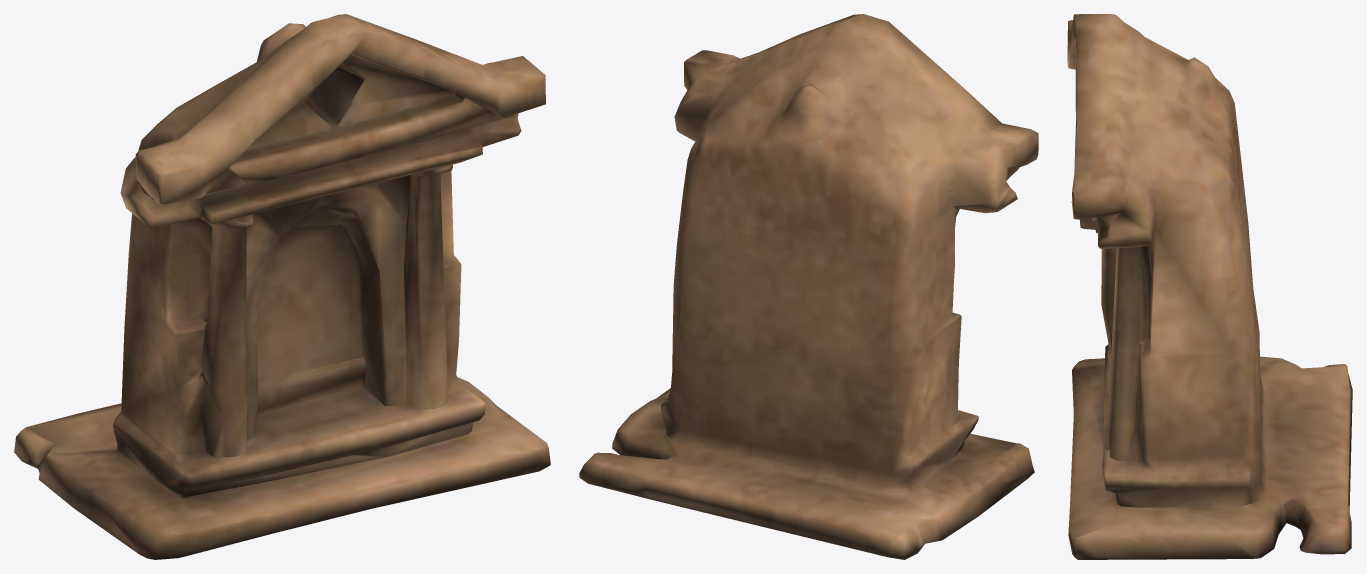
Rendered from rustic-sandstone-shrine-v001.glb.
3 views of the same model, side by side, from view 1: azimuth 30°, elevation 25°; view 2: azimuth 150°, elevation 25°; view 3: azimuth 270°, elevation 25° (orthographic). The views are drawn at different scales.
Visible parts, largest first — view 1: rustic-sandstone-shrine; view 2: rustic-sandstone-shrine; view 3: rustic-sandstone-shrine.
Part boxes in pixels (x1=…): rustic-sandstone-shrine: x1=14, y1=14, x2=550, y2=559; rustic-sandstone-shrine: x1=579, y1=14, x2=1038, y2=559; rustic-sandstone-shrine: x1=1067, y1=14, x2=1352, y2=559.
Bounding box in the file's own units: 0.7326 × 0.8384 × 0.4813.
Materials: 1 (1 with a texture image).
